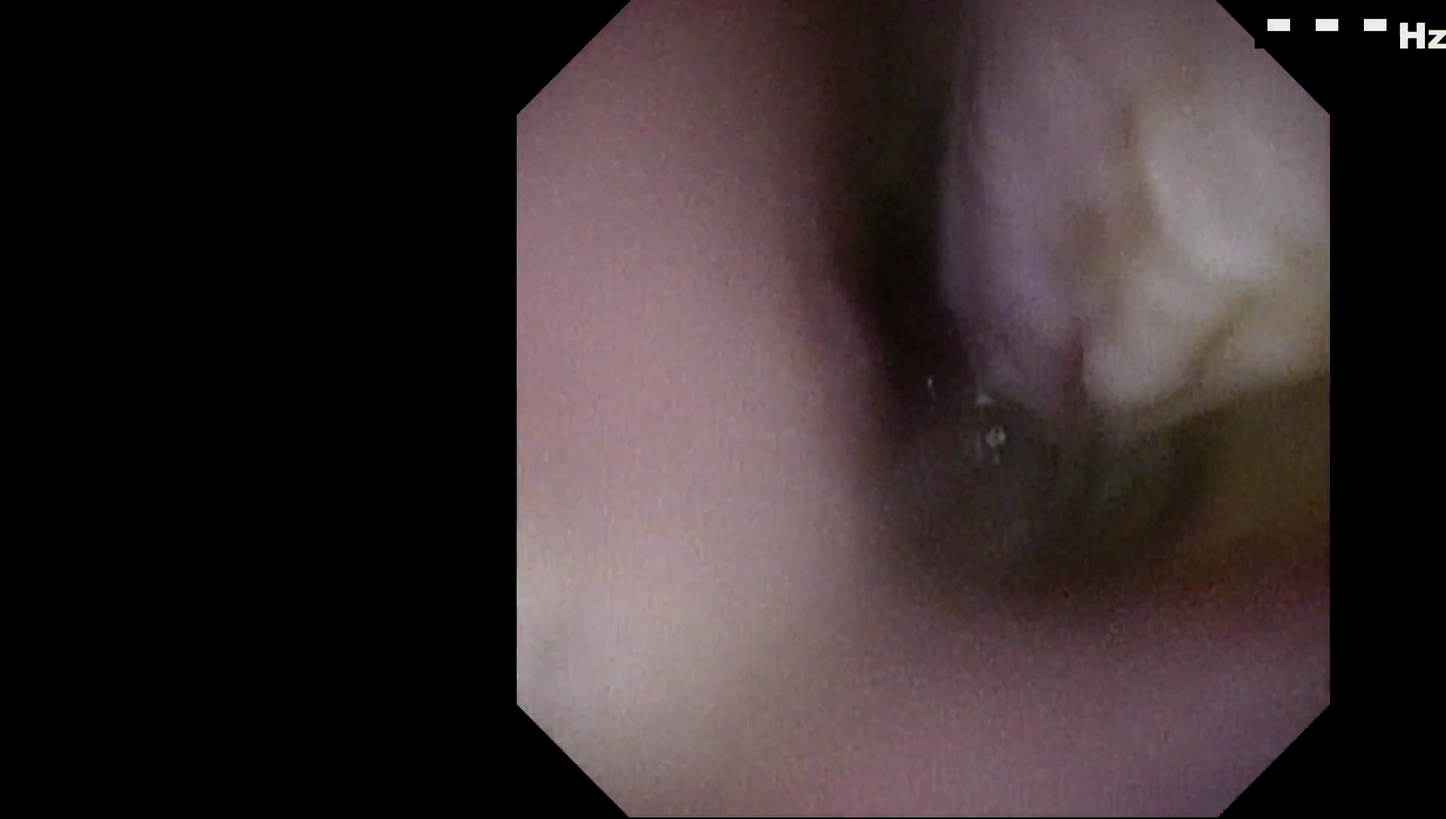close_wall: (526, 123, 937, 693)
next: (800, 34, 995, 444)
